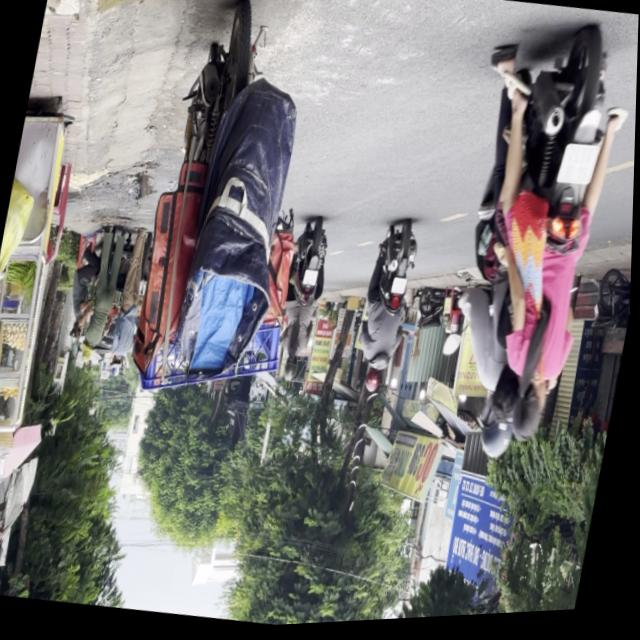helmet: (476, 394, 525, 467), (365, 368, 387, 399), (284, 358, 302, 387)
licenseplate: (427, 17, 639, 481), (351, 220, 427, 402), (272, 218, 338, 389)
motorcyclist: (510, 384, 552, 449)
nohelmet: (556, 147, 602, 194), (392, 281, 409, 299), (303, 272, 319, 289)
